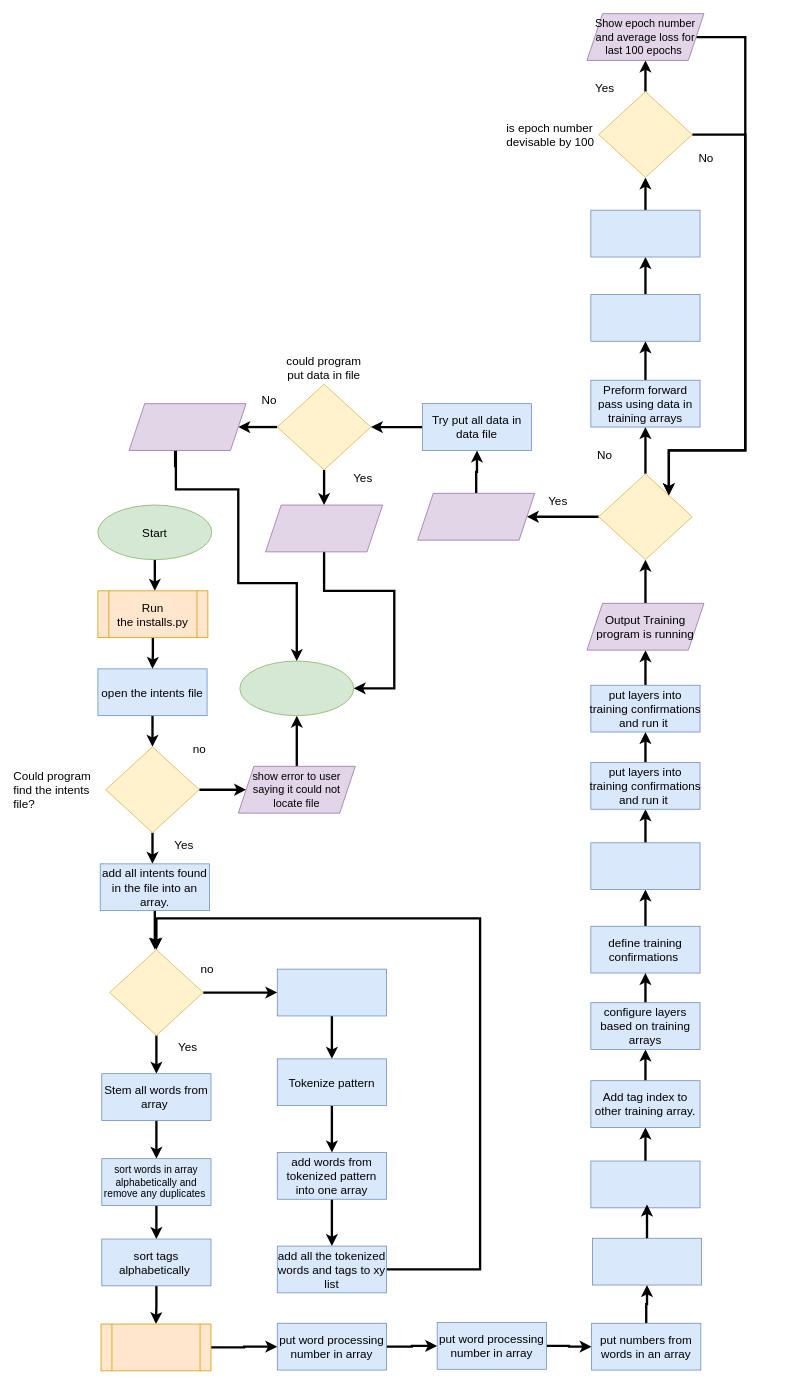
This 802x1385 diagram has some shape labels left out. The shapes that lost their labels are listed below. From the top down, each one's centre as x and y in pixels, then its label:
At point (645, 233): "Use optimization in model".
At point (645, 317): "Backward Pass and Optimization".
At point (187, 426): "Output error".
At point (324, 528): "Output data has been saved".
At point (476, 516): "Output average loss for all epochs".
At point (645, 516): "Has 1000 epochs been reached?".
At point (296, 688): "end".
At point (645, 866): "create a training loader based on confirmations".
At point (156, 992): "Loop over patterns. Are there any patterns left from intents file.".
At point (331, 992): "Move on to next pattern from intents file.".
At point (645, 1184): "Assign tags to an index".
At point (647, 1261): "put numbers in training array".
At point (155, 1347): "run word processing for words in array".
